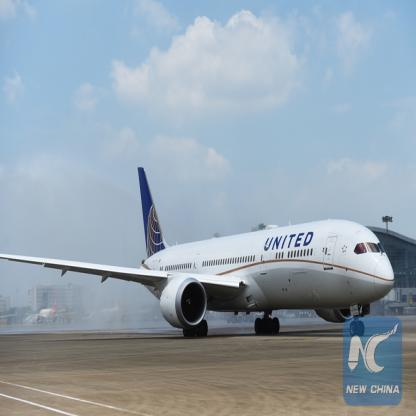CIV_Plane: (0, 162, 399, 342)
